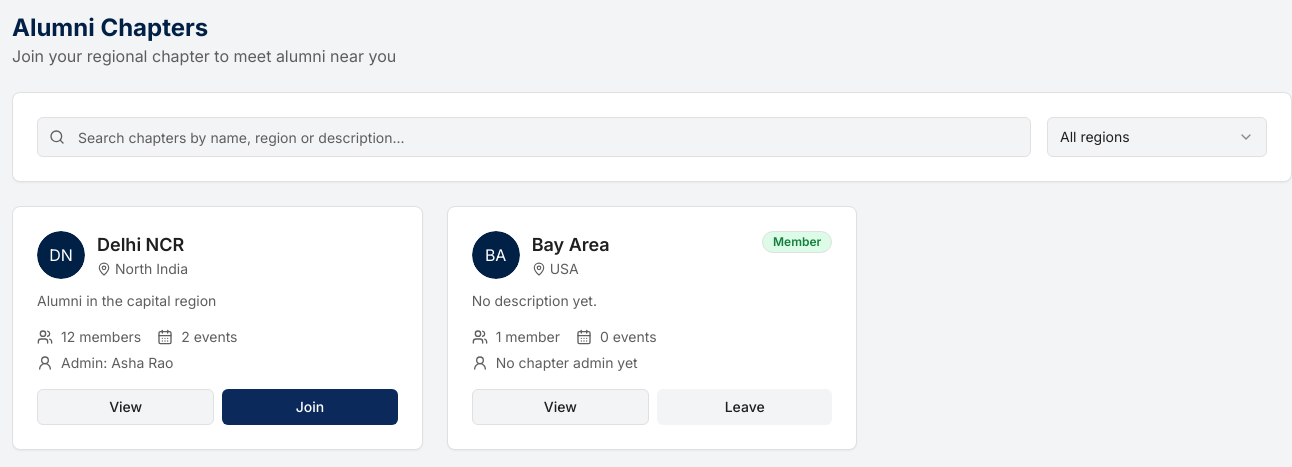
Test: Chapters list page › searches on the server (debounced) and shows an empty state
Type "capital" into the field labelled "Search chapters".
click(534, 137); type("capital")  # box [37,117,1031,157]
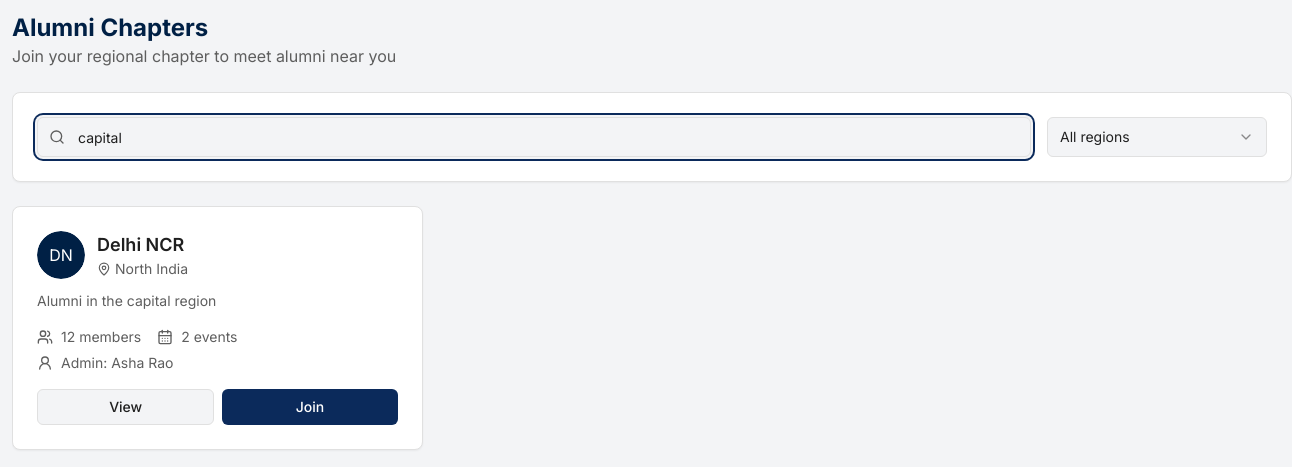
Check: the link "Delhi NCR" is shown, box [97,234,184,255]
Check: the link "Bay Area" is gone
Replace the text in the field named "Search chapters" with "nowhere" at (534, 137), box [37,117,1031,157]
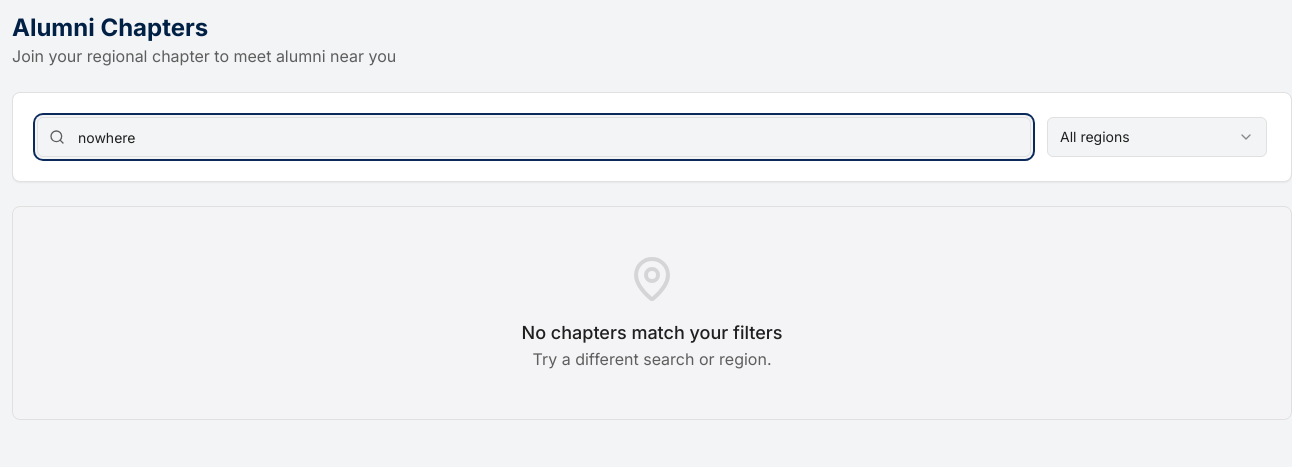
Check: the heading "No chapters match your filters" is shown, box [522,322,782,343]
